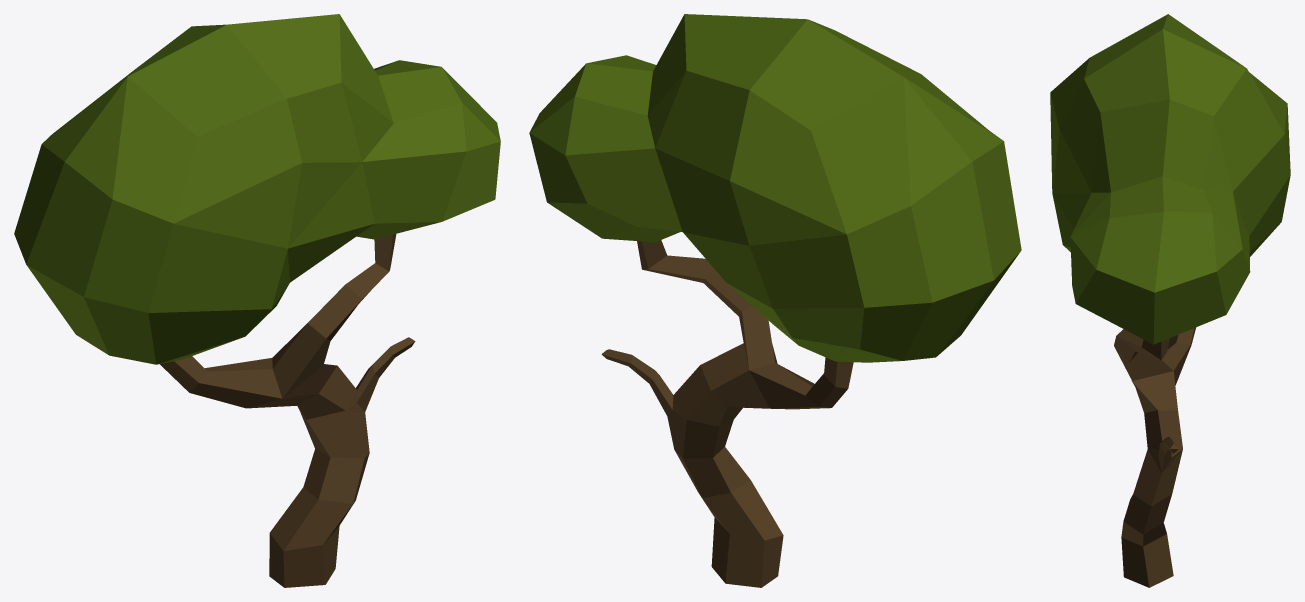
Rendered from TreesAndBushes_076.fbx.
3 renders of one model, left to right at view 1: azimuth 30°, elevation 25°; view 2: azimuth 150°, elevation 25°; view 3: azimuth 270°, elevation 25°, orthographic. The views are drawn at different scales.
Visible parts, largest first — view 1: TreesAndBushes_076; view 2: TreesAndBushes_076; view 3: TreesAndBushes_076.
Boxes of the visible parts, bbox=[...] form: TreesAndBushes_076: bbox=[14, 14, 500, 587]; TreesAndBushes_076: bbox=[529, 14, 1021, 587]; TreesAndBushes_076: bbox=[1050, 14, 1290, 587].
Size of the model in its own units: 136 by 160 by 68.06.
